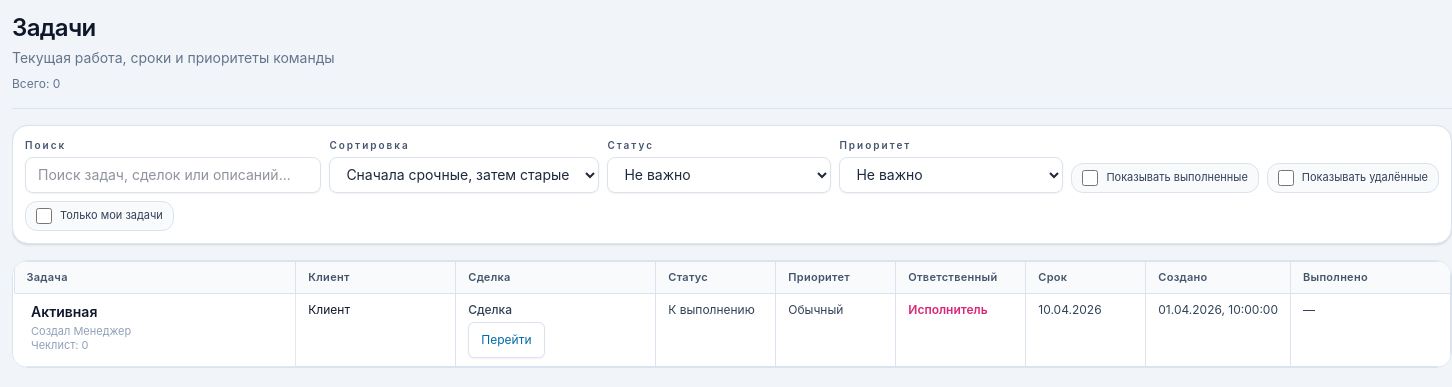
Test: TasksView › shows completed tasks when the completed status filter requests the archive
This screenshot has width=1452, height=387.
Select "Завершена" in the dropdown labelled "Статус" at (719, 174), box [607,156,831,192]
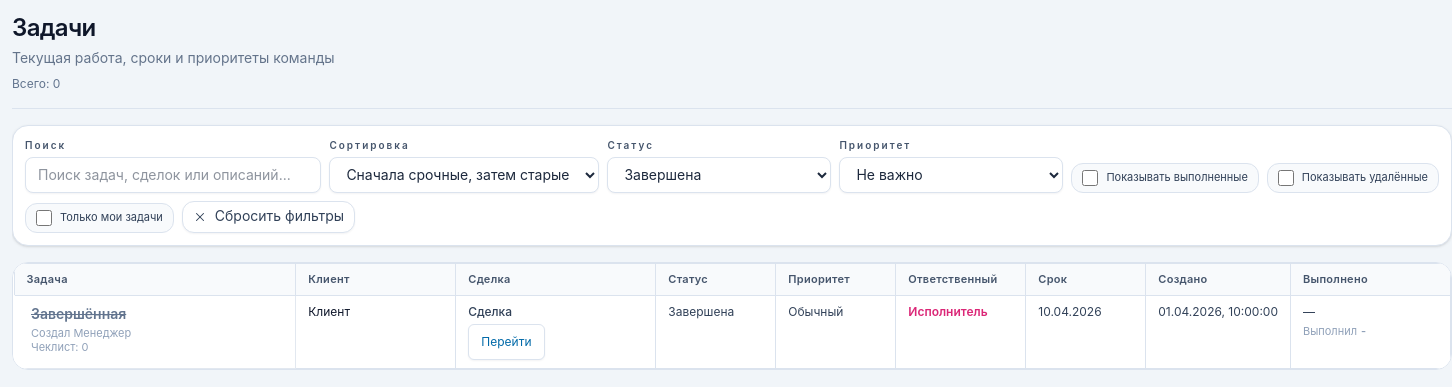
Check: the text "Завершённая" is shown, box [31,305,126,322]
Check: the text "Активная" is gone
